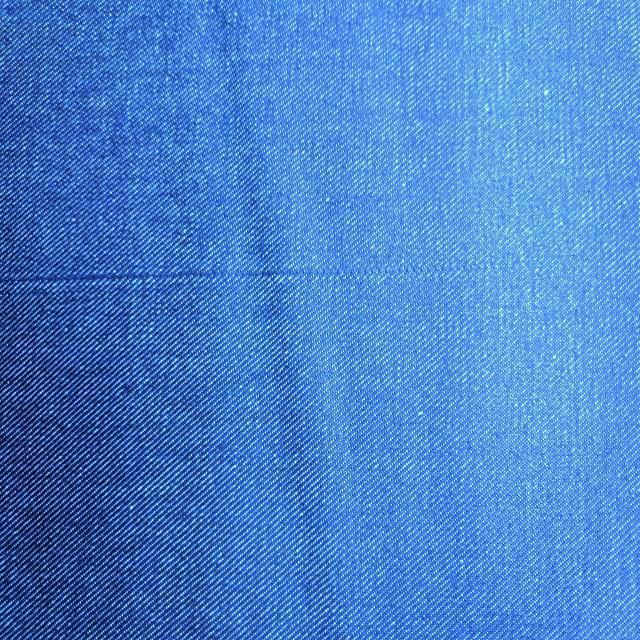Line: (0, 258, 562, 286)
